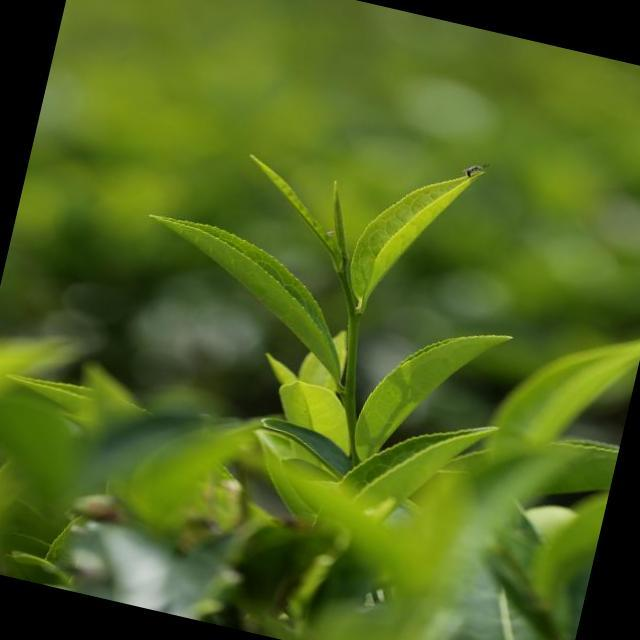Stem: (347, 320, 358, 372)
